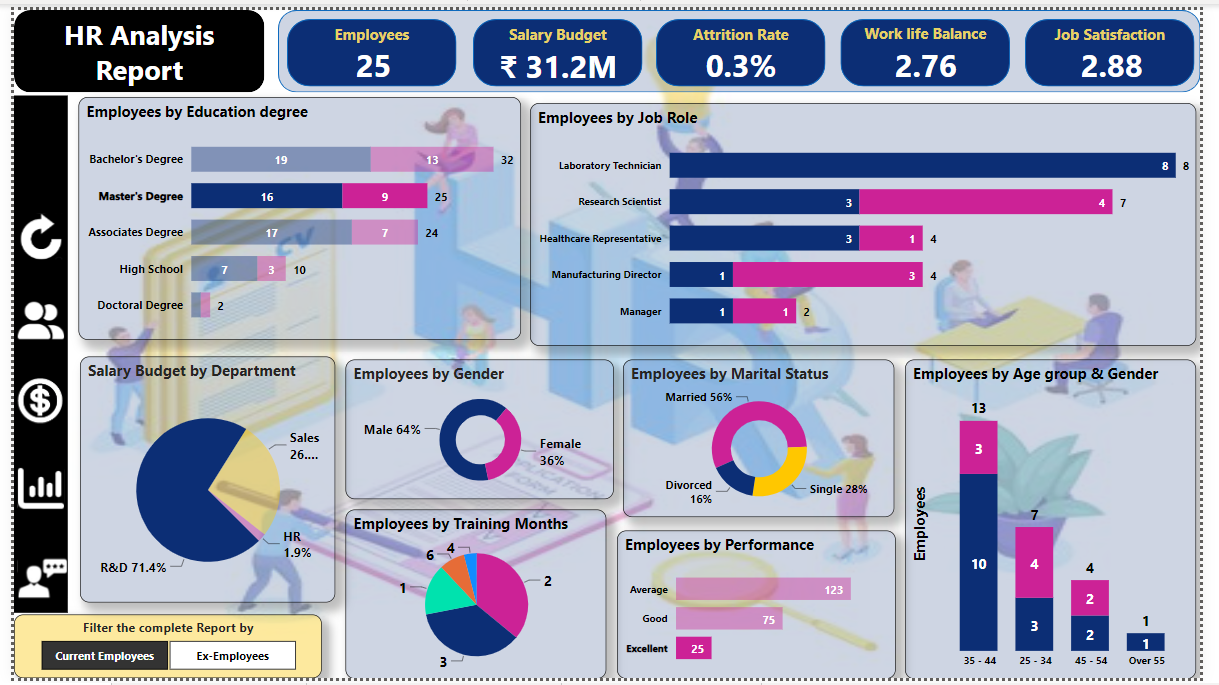

Layout of this report page (visuals, bound fields, positions):
{"tool":"powerbi","page":{"name":"Employees / Home","canvas":[1280,720],"ordinal":0},"visuals":[{"type":"shape","title":"Report Title grp","box":[0,0,270.2,89],"z":0},{"type":"shape","title":"backgroung","box":[284.8,0,995.1,89],"z":0,"group":"g3"},{"type":"shape","box":[294.5,9.4,182.8,72.8],"z":0,"group":"g2"},{"type":"shape","box":[494.7,9.4,182.8,72.8],"z":0,"group":"g1"},{"type":"shape","box":[693.3,9.4,182.8,72.8],"z":0,"group":"g4"},{"type":"shape","box":[1090.6,9.4,182.8,72.8],"z":0,"group":"g5"},{"type":"shape","box":[891.9,10.2,182.8,72.8],"z":0,"group":"g7"},{"type":"actionButton","box":[0,212,58.2,64.7],"z":0,"group":"g8"},{"type":"pieChart","title":"Salary Budget by Department","fields":{"Category":["Employees.Department"],"Y":["Measures Table.#10 Salary Budget"]},"box":[70.5,372.3,275.1,265.3],"z":0,"group":"g6"},{"type":"textbox","box":[891.9,8.6,182.8,37.2],"z":1000,"group":"g7"},{"type":"textbox","box":[294.5,9.4,182.8,37.2],"z":1000,"group":"g2"},{"type":"group","id":"g1","title":"Group 1","box":[494.7,9.4,182.8,72.8],"z":1000,"group":"g3"},{"type":"textbox","box":[494.7,9.4,182.8,37.2],"z":1000,"group":"g1"},{"type":"textbox","box":[693.3,9.4,182.8,37.2],"z":1000,"group":"g4"},{"type":"textbox","box":[1090.6,9.4,182.8,37.2],"z":1000,"group":"g5"},{"type":"shape","box":[0,92.2,58.2,558.2],"z":1000},{"type":"actionButton","box":[0,305.8,58.2,58.2],"z":1000,"group":"g8"},{"type":"columnChart","title":"Employees by Age group & Gender","fields":{"Category":["Employees.Age Group"],"Y":["Measures Table.#1 Total Employees"],"Series":["Employees.Gender"]},"box":[960.4,375.5,313.9,344.6],"z":1000,"group":"g6"},{"type":"group","id":"g2","title":"Group 2","box":[294.5,9.4,184.4,72.8],"z":2000,"group":"g3"},{"type":"card","title":"card","fields":{"Values":["Measures Table.#1 Total Employees"]},"box":[296.1,35.3,182.8,46.9],"z":2000,"group":"g2"},{"type":"card","title":"card","fields":{"Values":["Measures Table.#5 Attrition Rate"]},"box":[693.3,35.3,182.8,46.9],"z":2000,"group":"g4"},{"type":"card","title":"card","fields":{"Values":["Measures Table.#7 Rating Job Satisfaction"]},"box":[1092.2,35.3,182.8,46.9],"z":2000,"group":"g5"},{"type":"card","title":"card","fields":{"Values":["Measures Table.#9 Rating Work life Balance"]},"box":[891.9,36.1,182.8,46.9],"z":2000,"group":"g7"},{"type":"card","title":"card","fields":{"Values":["Measures Table.#10 Salary Budget"]},"box":[494.7,38.5,182.8,43.7],"z":2000,"group":"g1"},{"type":"barChart","title":"Employees by Education degree","fields":{"Category":["Employees.Education"],"Y":["Measures Table.#1 Total Employees"],"Series":["Employees.Gender"]},"box":[69.4,93.1,477.3,262.1],"z":2000,"group":"g6"},{"type":"actionButton","box":[0,393.2,58.2,56.6],"z":2000,"group":"g8"},{"type":"slicer","title":"Filter the complete Report by","fields":{"Values":["Employees.attrition label"]},"box":[0,651.7,331.7,68.3],"z":2000},{"type":"group","id":"g3","title":"KPIs #group","box":[284.8,0,995.1,89],"z":3000},{"type":"group","id":"g4","title":"Group 3","box":[693.3,9.4,182.8,72.8],"z":3000,"group":"g3"},{"type":"donutChart","title":"Employees by Gender ","fields":{"Category":["Employees.Gender"],"Y":["Measures Table.#1 Total Employees"]},"box":[356.9,375.5,289.6,150.5],"z":3000,"group":"g6"},{"type":"actionButton","box":[0,479,58.2,74.4],"z":3000,"group":"g8"},{"type":"group","id":"g5","title":"Group 4","box":[1090.6,9.4,184.4,72.8],"z":4000,"group":"g3"},{"type":"group","id":"g6","title":"All charts #group","box":[69.4,93.1,1204.9,627],"z":4000},{"type":"donutChart","title":"Employees by Marital Status","fields":{"Y":["Measures Table.#1 Total Employees"],"Category":["Salary & Payouts.Marital Status"]},"box":[657.3,375.5,292.9,169.9],"z":4000,"group":"g6"},{"type":"actionButton","box":[0,582.5,69.6,61.5],"z":4000,"group":"g8"},{"type":"group","id":"g7","title":"Group 5","box":[891.9,8.6,182.8,74.4],"z":5000,"group":"g3"},{"type":"group","id":"g8","title":"Group 6","box":[0,212,69.6,432],"z":5000},{"type":"pieChart","title":"Employees by Training Months","fields":{"Category":["Salary & Payouts.Training Times Last Year (Months)"],"Y":["Measures Table.#1 Total Employees"]},"box":[356.9,537.3,281.5,182.8],"z":5000,"group":"g6"},{"type":"barChart","title":"Employees by Job Role","fields":{"Y":["Measures Table.#1 Total Employees"],"Series":["Employees.Gender"],"Category":["Employees.Job Role"]},"box":[555.9,98.8,718.4,262.1],"z":6000,"group":"g6"},{"type":"barChart","fields":{"Category":["Salary & Payouts.Performance"],"Y":["Measures Table.#1 Total Employees"]},"box":[649.7,560,300.9,160.2],"z":7000,"group":"g6"}]}

Visuals, with their boxes in screenshot pixels (x1, y1, x2, y2), scaled from the page's 1280x720 canvas onto the 1219x685 screenshot:
"Report Title grp" shape: rect(0, 0, 257, 85)
"backgroung" shape: rect(271, 0, 1218, 85)
shape: rect(280, 9, 455, 78)
shape: rect(471, 9, 645, 78)
shape: rect(660, 9, 834, 78)
shape: rect(1039, 9, 1213, 78)
shape: rect(849, 10, 1023, 79)
actionButton: rect(0, 202, 55, 263)
"Salary Budget by Department" pieChart: rect(67, 354, 329, 607)
textbox: rect(849, 8, 1023, 44)
textbox: rect(280, 9, 455, 44)
"Group 1" group: rect(471, 9, 645, 78)
textbox: rect(471, 9, 645, 44)
textbox: rect(660, 9, 834, 44)
textbox: rect(1039, 9, 1213, 44)
shape: rect(0, 88, 55, 619)
actionButton: rect(0, 291, 55, 346)
"Employees by Age group & Gender" columnChart: rect(915, 357, 1214, 684)
"Group 2" group: rect(280, 9, 456, 78)
"card" card: rect(282, 34, 456, 78)
"card" card: rect(660, 34, 834, 78)
"card" card: rect(1040, 34, 1214, 78)
"card" card: rect(849, 34, 1023, 79)
"card" card: rect(471, 37, 645, 78)
"Employees by Education degree" barChart: rect(66, 89, 521, 338)
actionButton: rect(0, 374, 55, 428)
"Filter the complete Report by" slicer: rect(0, 620, 316, 684)
"KPIs #group" group: rect(271, 0, 1218, 85)
"Group 3" group: rect(660, 9, 834, 78)
"Employees by Gender " donutChart: rect(340, 357, 616, 500)
actionButton: rect(0, 456, 55, 526)
"Group 4" group: rect(1039, 9, 1214, 78)
"All charts #group" group: rect(66, 89, 1214, 684)
"Employees by Marital Status" donutChart: rect(626, 357, 905, 519)
actionButton: rect(0, 554, 66, 613)
"Group 5" group: rect(849, 8, 1023, 79)
"Group 6" group: rect(0, 202, 66, 613)
"Employees by Training Months" pieChart: rect(340, 511, 608, 684)
"Employees by Job Role" barChart: rect(529, 94, 1214, 343)
barChart - Salary & Payouts.Performance x Measures Table.#1 Total Employees: rect(619, 533, 905, 684)
